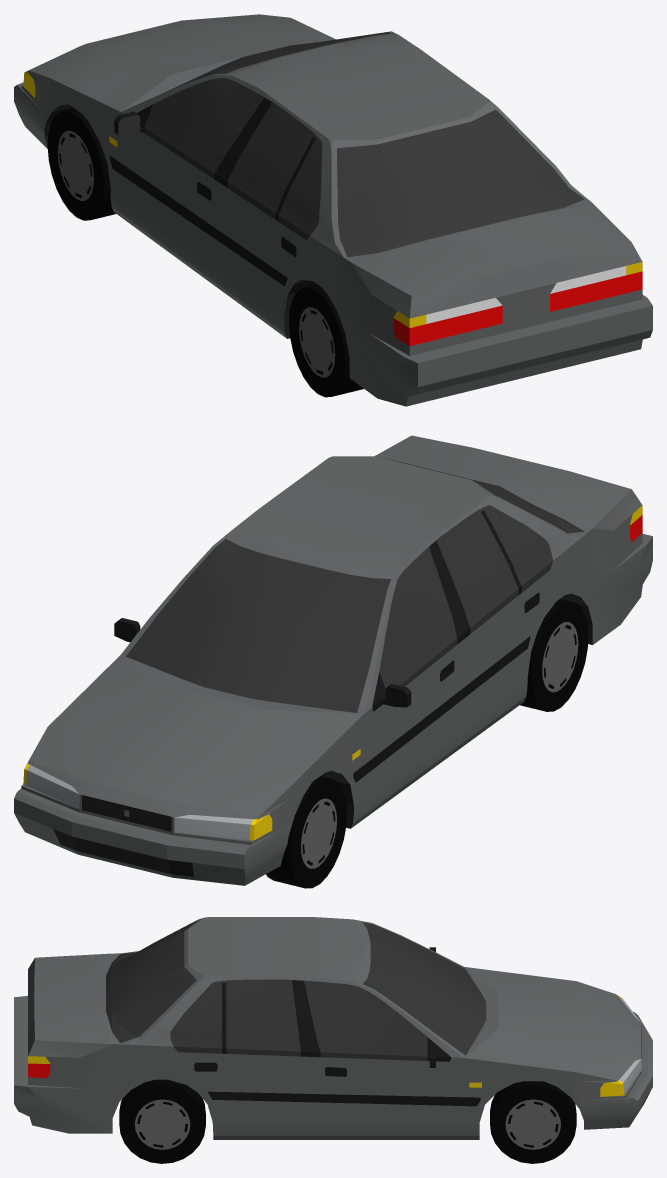
File: car_1.obj
3 views of the same model, one above another, from view 1: azimuth 30°, elevation 25°; view 2: azimuth 150°, elevation 25°; view 3: azimuth 270°, elevation 25° (orthographic). The views are drawn at different scales.
Parts seen in each view (by area): view 1: Mesh1 Component_16_1 Model, Mesh3 Component_16_1 Model, Mesh4 Component_16_1 Model; view 2: Mesh1 Component_16_1 Model, Mesh3 Component_16_1 Model, Mesh4 Component_16_1 Model; view 3: Mesh1 Component_16_1 Model, Mesh2 Component_16_1 Model, Mesh5 Component_16_1 Model.
Part boxes in pixels (left/top/right/bottom): Mesh1 Component_16_1 Model: left=14, top=14, right=652, bottom=406; Mesh3 Component_16_1 Model: left=47, top=108, right=115, bottom=220; Mesh4 Component_16_1 Model: left=289, top=284, right=363, bottom=397; Mesh1 Component_16_1 Model: left=14, top=435, right=652, bottom=885; Mesh3 Component_16_1 Model: left=266, top=776, right=347, bottom=888; Mesh4 Component_16_1 Model: left=520, top=599, right=588, bottom=711; Mesh1 Component_16_1 Model: left=14, top=917, right=652, bottom=1139; Mesh2 Component_16_1 Model: left=119, top=1079, right=205, bottom=1163; Mesh5 Component_16_1 Model: left=490, top=1081, right=576, bottom=1163.
Size of the model in its own units: 0.8235 by 0.5986 by 2.02.
